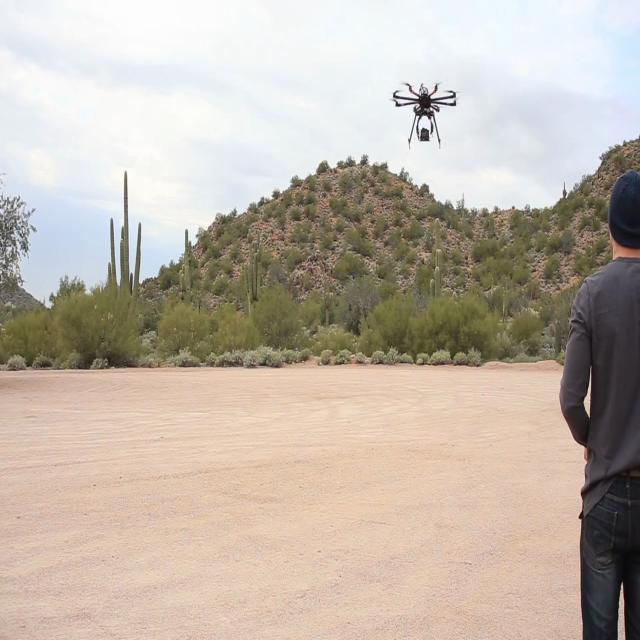drone: (388, 76, 461, 160)
